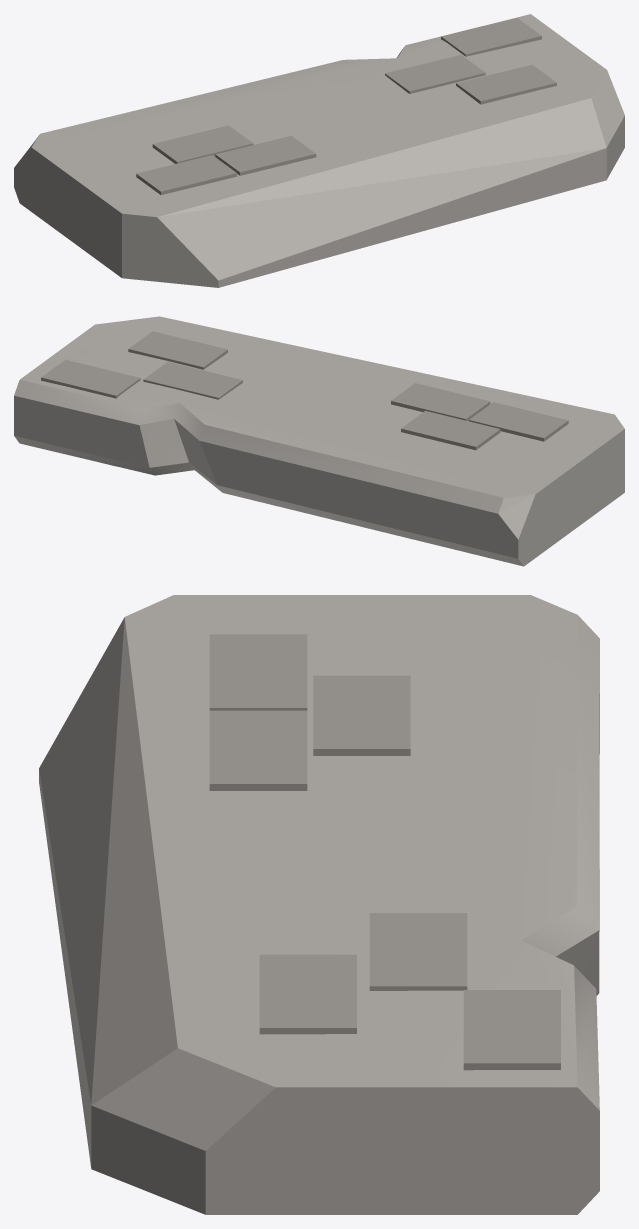
Rendered from Wall 11.FBX.
3 views of the same model, one above another, from view 1: azimuth 30°, elevation 25°; view 2: azimuth 150°, elevation 25°; view 3: azimuth 270°, elevation 25° (orthographic). The views are drawn at different scales.
Visible parts, largest first — view 1: Wall 11; view 2: Wall 11; view 3: Wall 11.
Boxes of the visible parts, box(x1,y1,x2,y2) form: Wall 11: box(14, 14, 624, 287); Wall 11: box(14, 316, 624, 566); Wall 11: box(39, 595, 599, 1214).
Size of the model in its own units: 400 by 53.58 by 193.
1 material, 1 textured.
